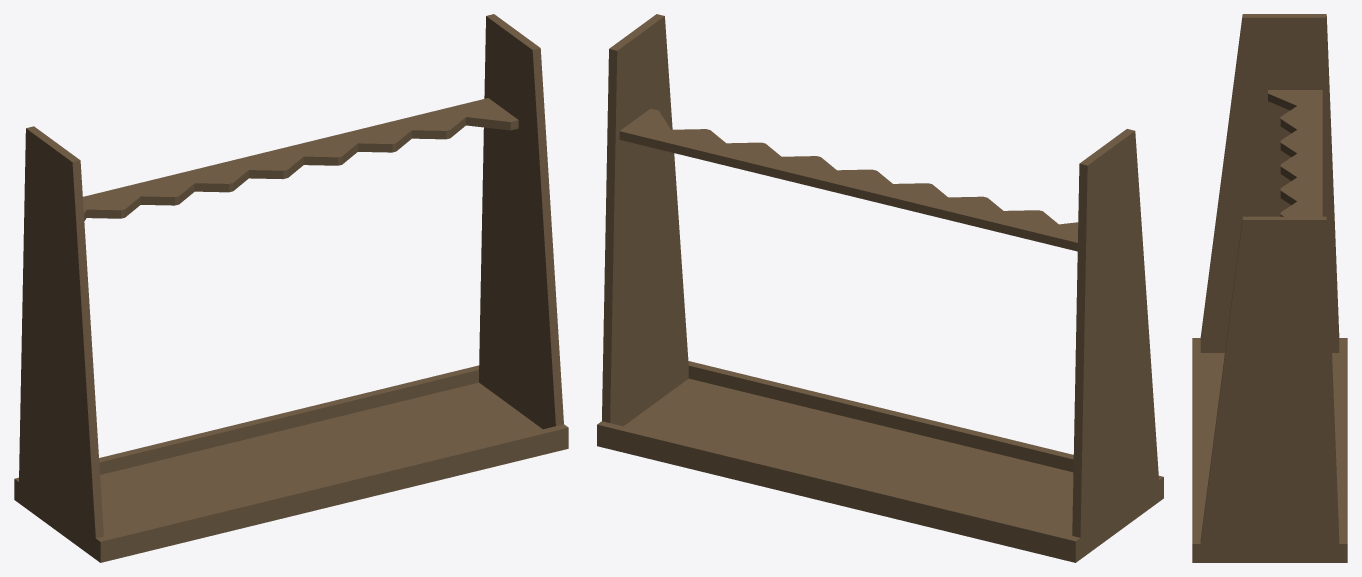
File: weapon rack 001.fbx
The picture shows the model from 3 angles, left to right: view 1: azimuth 30°, elevation 25°; view 2: azimuth 150°, elevation 25°; view 3: azimuth 270°, elevation 25°; orthographic projection. The views are drawn at different scales.
Parts seen in each view (by area): view 1: Rifle rack 001; view 2: Rifle rack 001; view 3: Rifle rack 001.
Part boxes in pixels (left/top/right/bottom): Rifle rack 001: left=14, top=14, right=568, bottom=562; Rifle rack 001: left=597, top=14, right=1163, bottom=562; Rifle rack 001: left=1192, top=14, right=1347, bottom=562.
Size of the model in its own units: 116 by 90 by 37.
